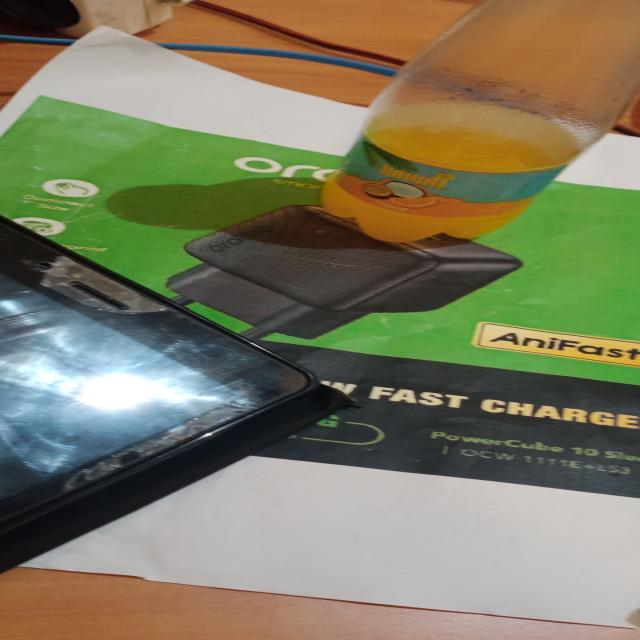PowerCube 10 Sleek OCW-1111ExL53: (409, 421, 640, 482)
